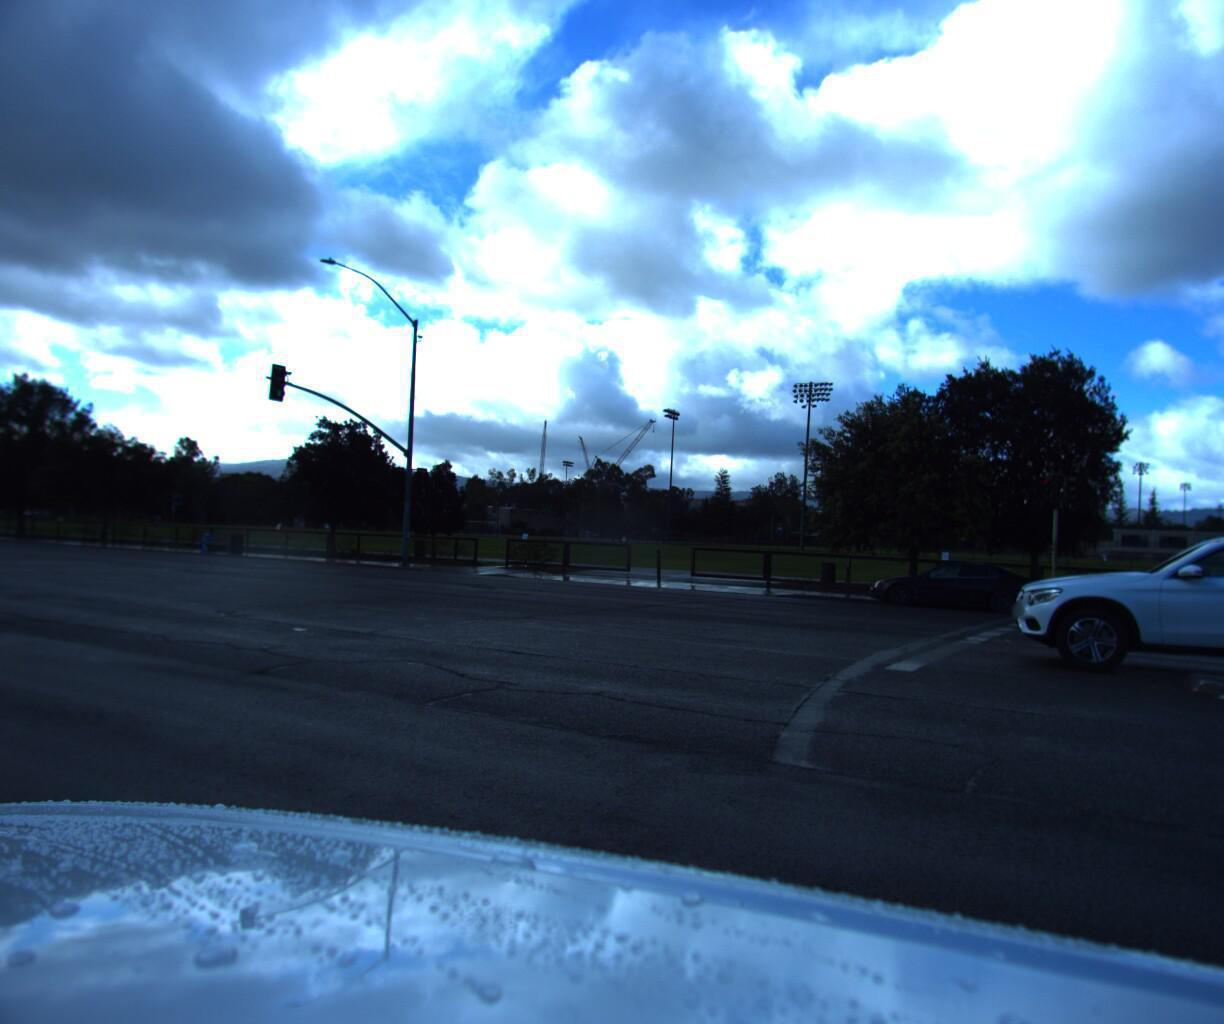car: (1001, 523, 1224, 721), (856, 554, 1049, 624)
